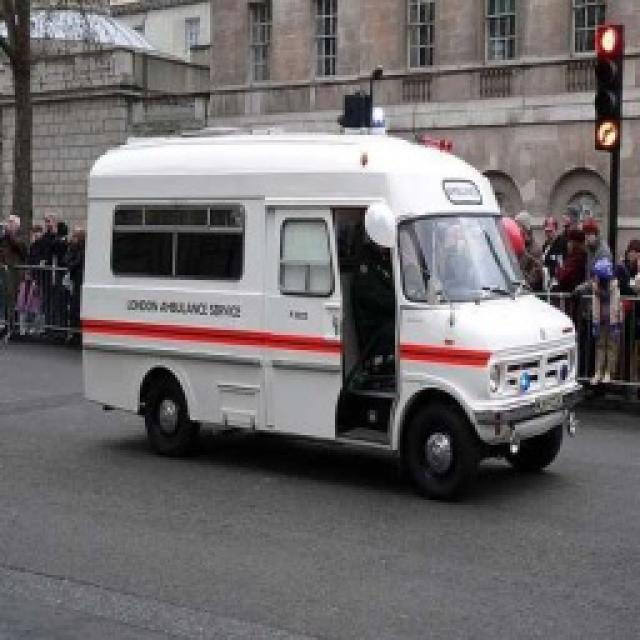emergency-vehicle: (48, 103, 597, 519)
